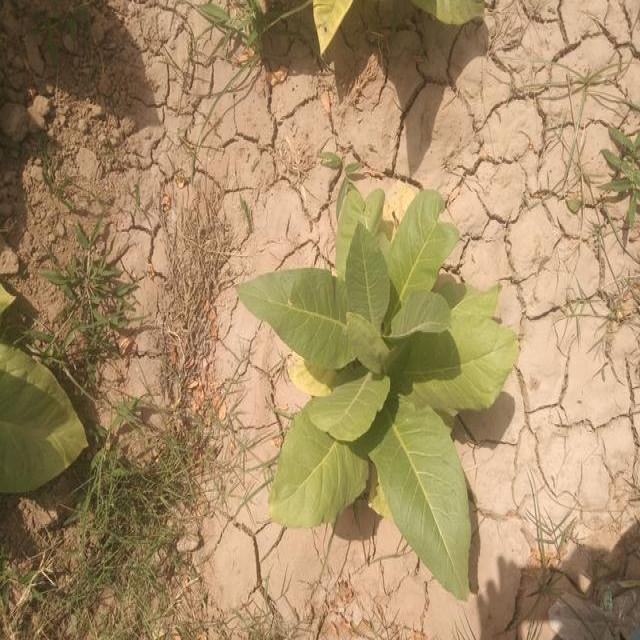crop: (238, 191, 506, 597), (0, 324, 83, 509), (292, 0, 365, 56), (414, 0, 502, 33)
